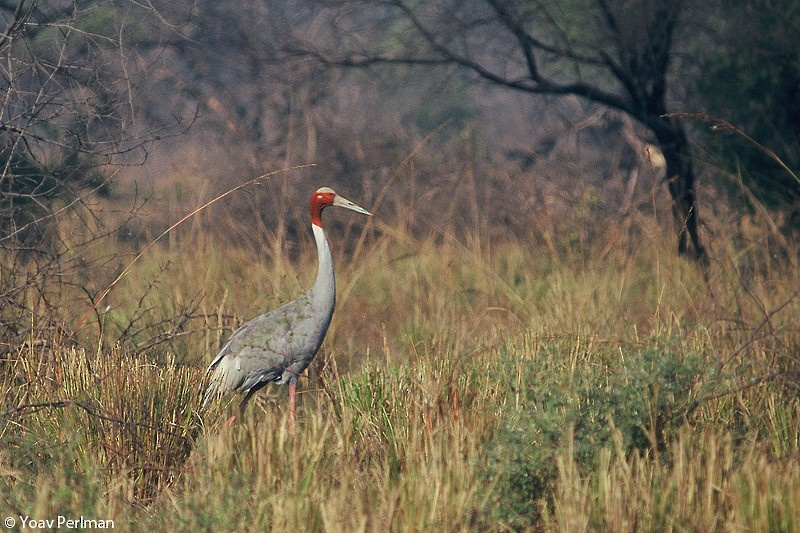crane: (193, 182, 382, 437)
